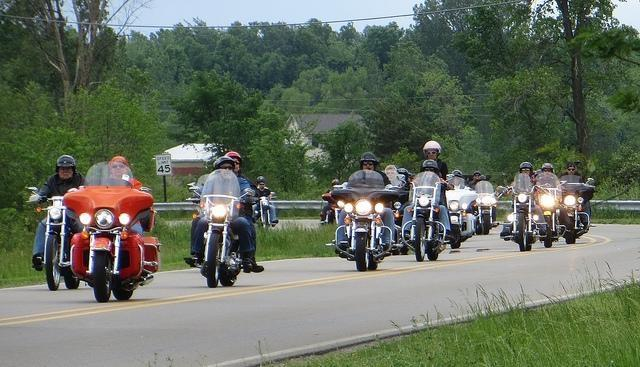motorcycle: (56, 160, 165, 303), (329, 169, 408, 273), (188, 166, 255, 288), (22, 184, 82, 290), (496, 174, 552, 253), (402, 172, 451, 261), (534, 172, 567, 250), (560, 176, 595, 244), (446, 178, 476, 249), (472, 180, 507, 236), (384, 201, 406, 243), (256, 192, 278, 230), (320, 193, 339, 226)
